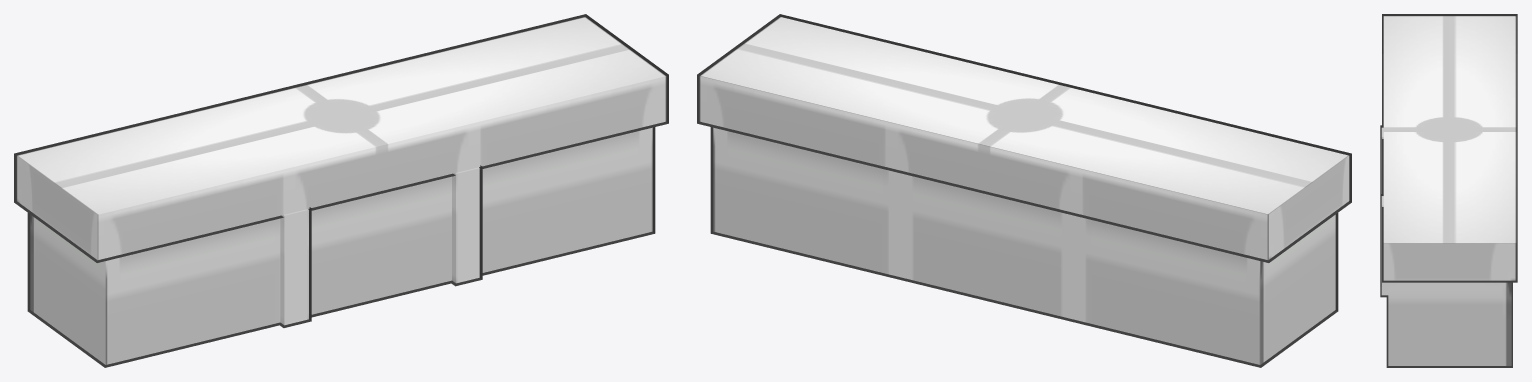
Rendered from Building_Altar_Medium.glb.
3 views of the same model, side by side, from view 1: azimuth 30°, elevation 25°; view 2: azimuth 150°, elevation 25°; view 3: azimuth 270°, elevation 25° (orthographic). The views are drawn at different scales.
Parts seen in each view (by area): view 1: Altar_Medium, Outline; view 2: Altar_Medium, Outline; view 3: Altar_Medium, Outline.
Part boxes in pixels (x1=…): Altar_Medium: x1=16, y1=17, x2=666, y2=364; Outline: x1=14, y1=14, x2=668, y2=367; Altar_Medium: x1=699, y1=17, x2=1349, y2=364; Outline: x1=697, y1=14, x2=1351, y2=367; Altar_Medium: x1=1381, y1=16, x2=1516, y2=365; Outline: x1=1380, y1=14, x2=1517, y2=367.
Bounding box in the file's own units: 2.9 × 0.7673 × 0.7373.
2 materials, 1 textured.
